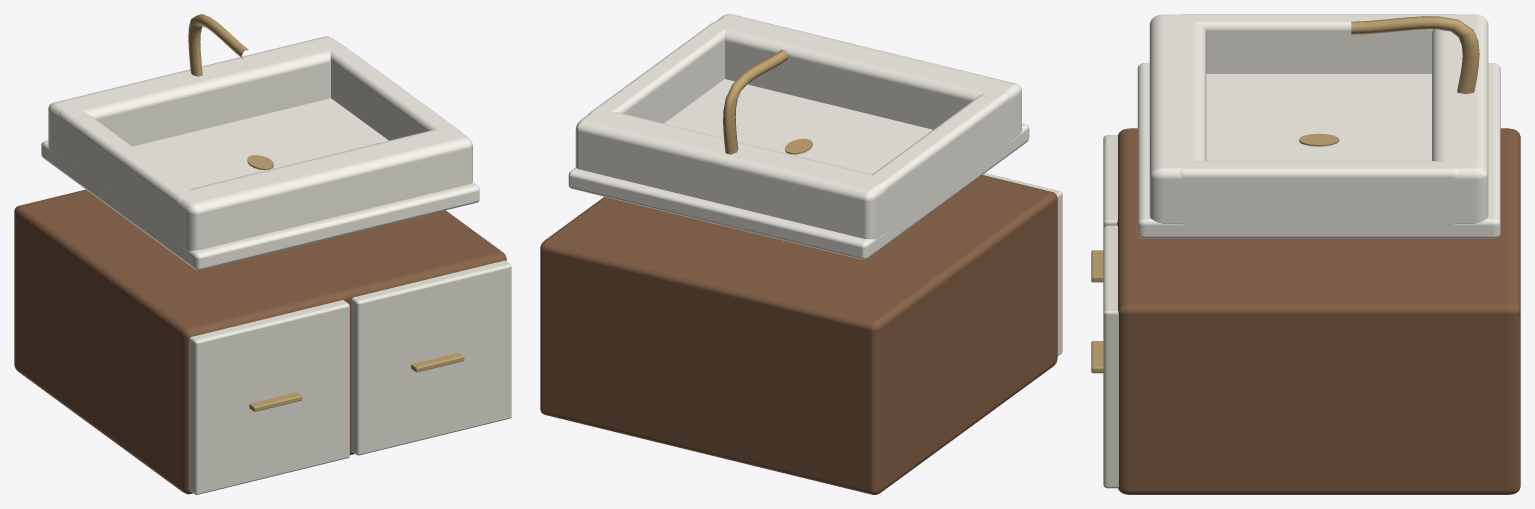
The model's file is sink-13-0.glb.
3 views of the same model, side by side, from view 1: azimuth 30°, elevation 25°; view 2: azimuth 150°, elevation 25°; view 3: azimuth 270°, elevation 25° (orthographic). The views are drawn at different scales.
Visible parts, largest first — view 1: upholstery (×4); view 2: upholstery (×4); view 3: upholstery (×4).
Boxes of the visible parts, x1,y1,x2,y2 form: upholstery (×4): (14,14,511,494); upholstery (×4): (540,14,1062,494); upholstery (×4): (1091,14,1520,494).
Size of the model in its own units: 1 by 1 by 1.
